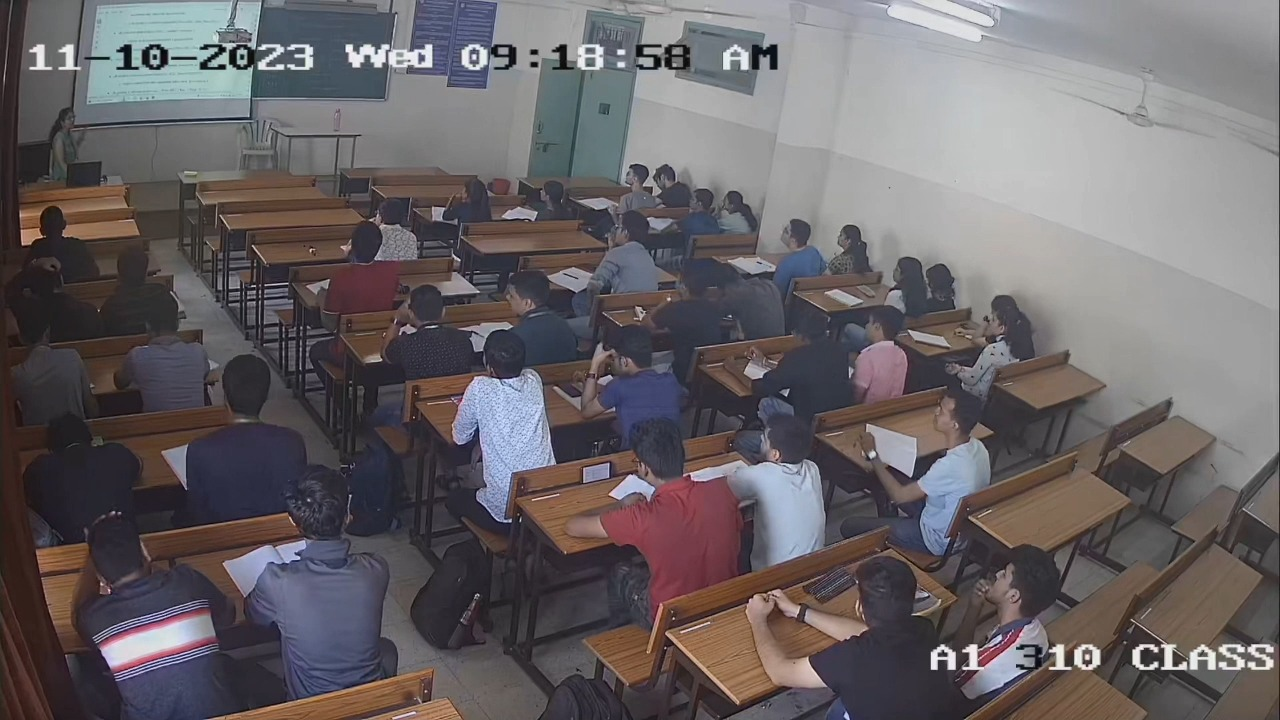cell-phones: (578, 458, 616, 485), (555, 379, 581, 398), (854, 282, 878, 299)
person: (584, 414, 739, 593), (581, 323, 682, 424), (881, 255, 930, 313)
